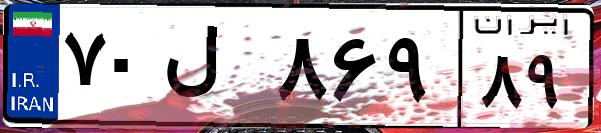0: (110, 28, 158, 98)
6: (330, 28, 385, 110)
7: (57, 26, 110, 100)
8: (270, 28, 330, 110), (475, 38, 525, 113)
9: (385, 28, 445, 110), (525, 38, 570, 115)
ل: (158, 20, 270, 120)
